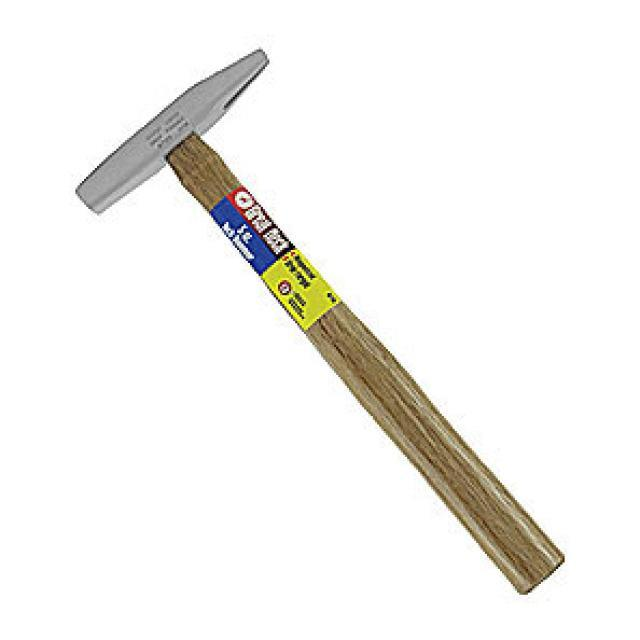hammer: (66, 39, 572, 602)
